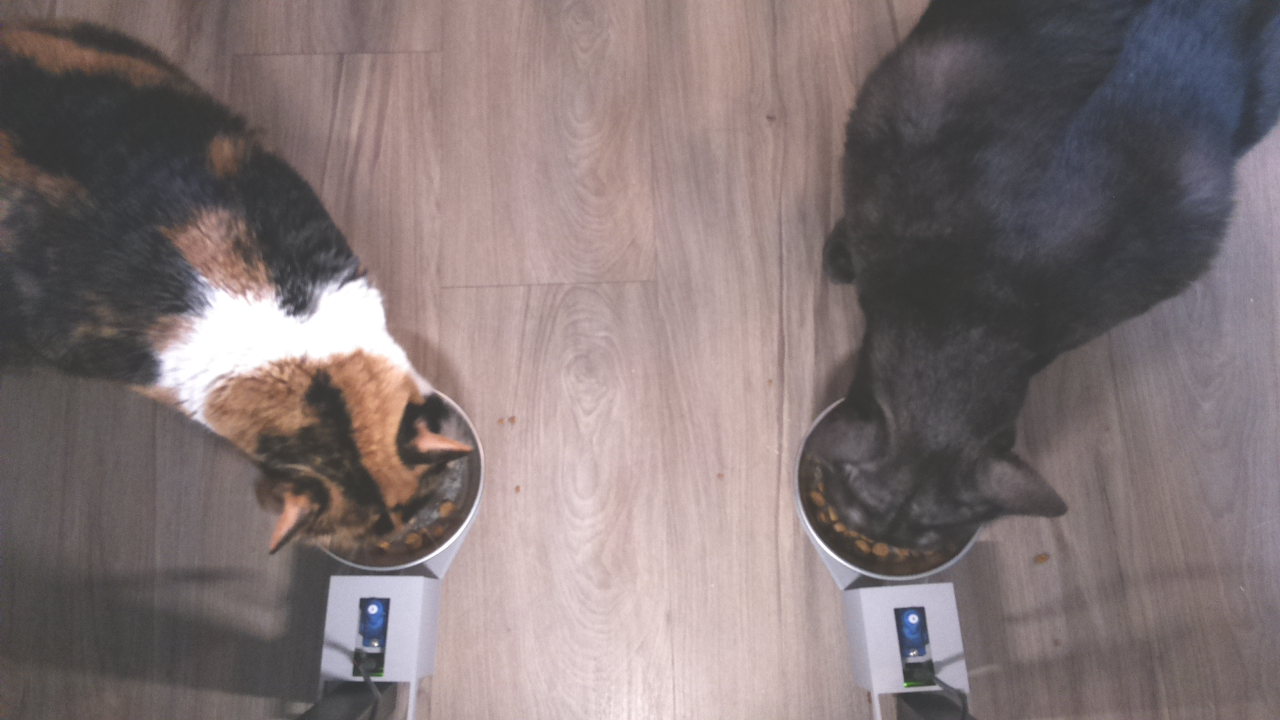bella_eating: (213, 275, 486, 571)
saki_eating: (779, 316, 1071, 593)
